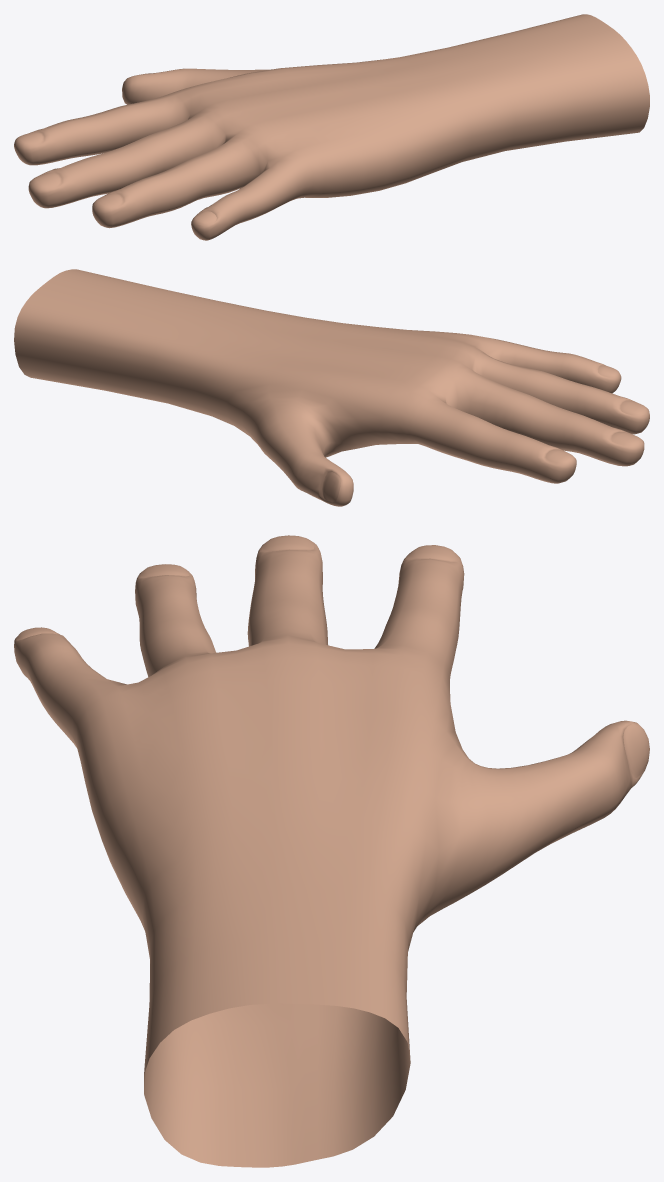
The model's file is RiggedHandLeft.obj.
The picture shows the model from 3 angles, top to bottom: view 1: azimuth 30°, elevation 25°; view 2: azimuth 150°, elevation 25°; view 3: azimuth 270°, elevation 25°; orthographic projection. The views are drawn at different scales.
Parts seen in each view (by area): view 1: Cube.005_Cube.017; view 2: Cube.005_Cube.017; view 3: Cube.005_Cube.017.
Boxes of the visible parts, x1,y1,x2,y2 form: Cube.005_Cube.017: [14, 14, 649, 240]; Cube.005_Cube.017: [14, 269, 649, 506]; Cube.005_Cube.017: [14, 535, 649, 1167].
Bounding box in the file's own units: 0.2552 × 0.0441 × 0.1363.
